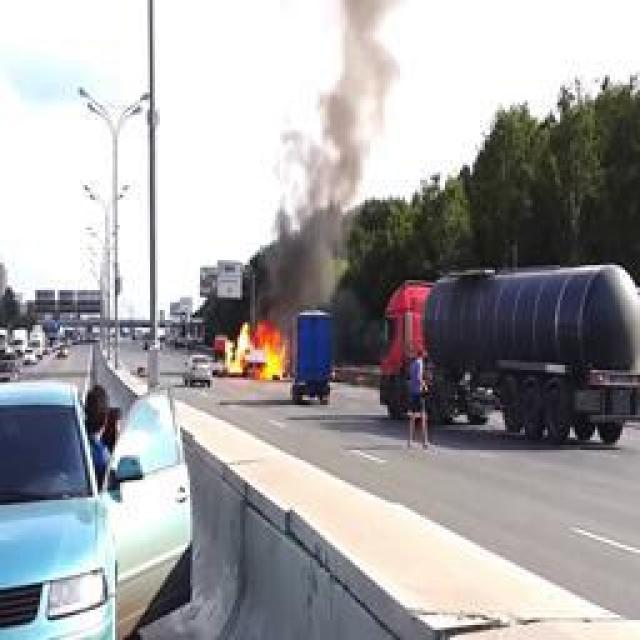Fire: (224, 322, 288, 380)
